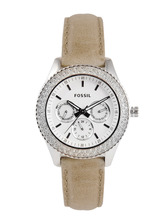watch: (31, 13, 143, 214)
